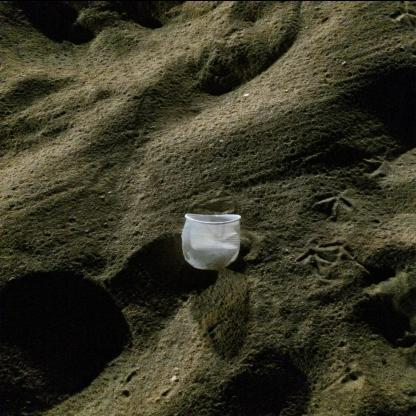plastik: (182, 212, 242, 270)
